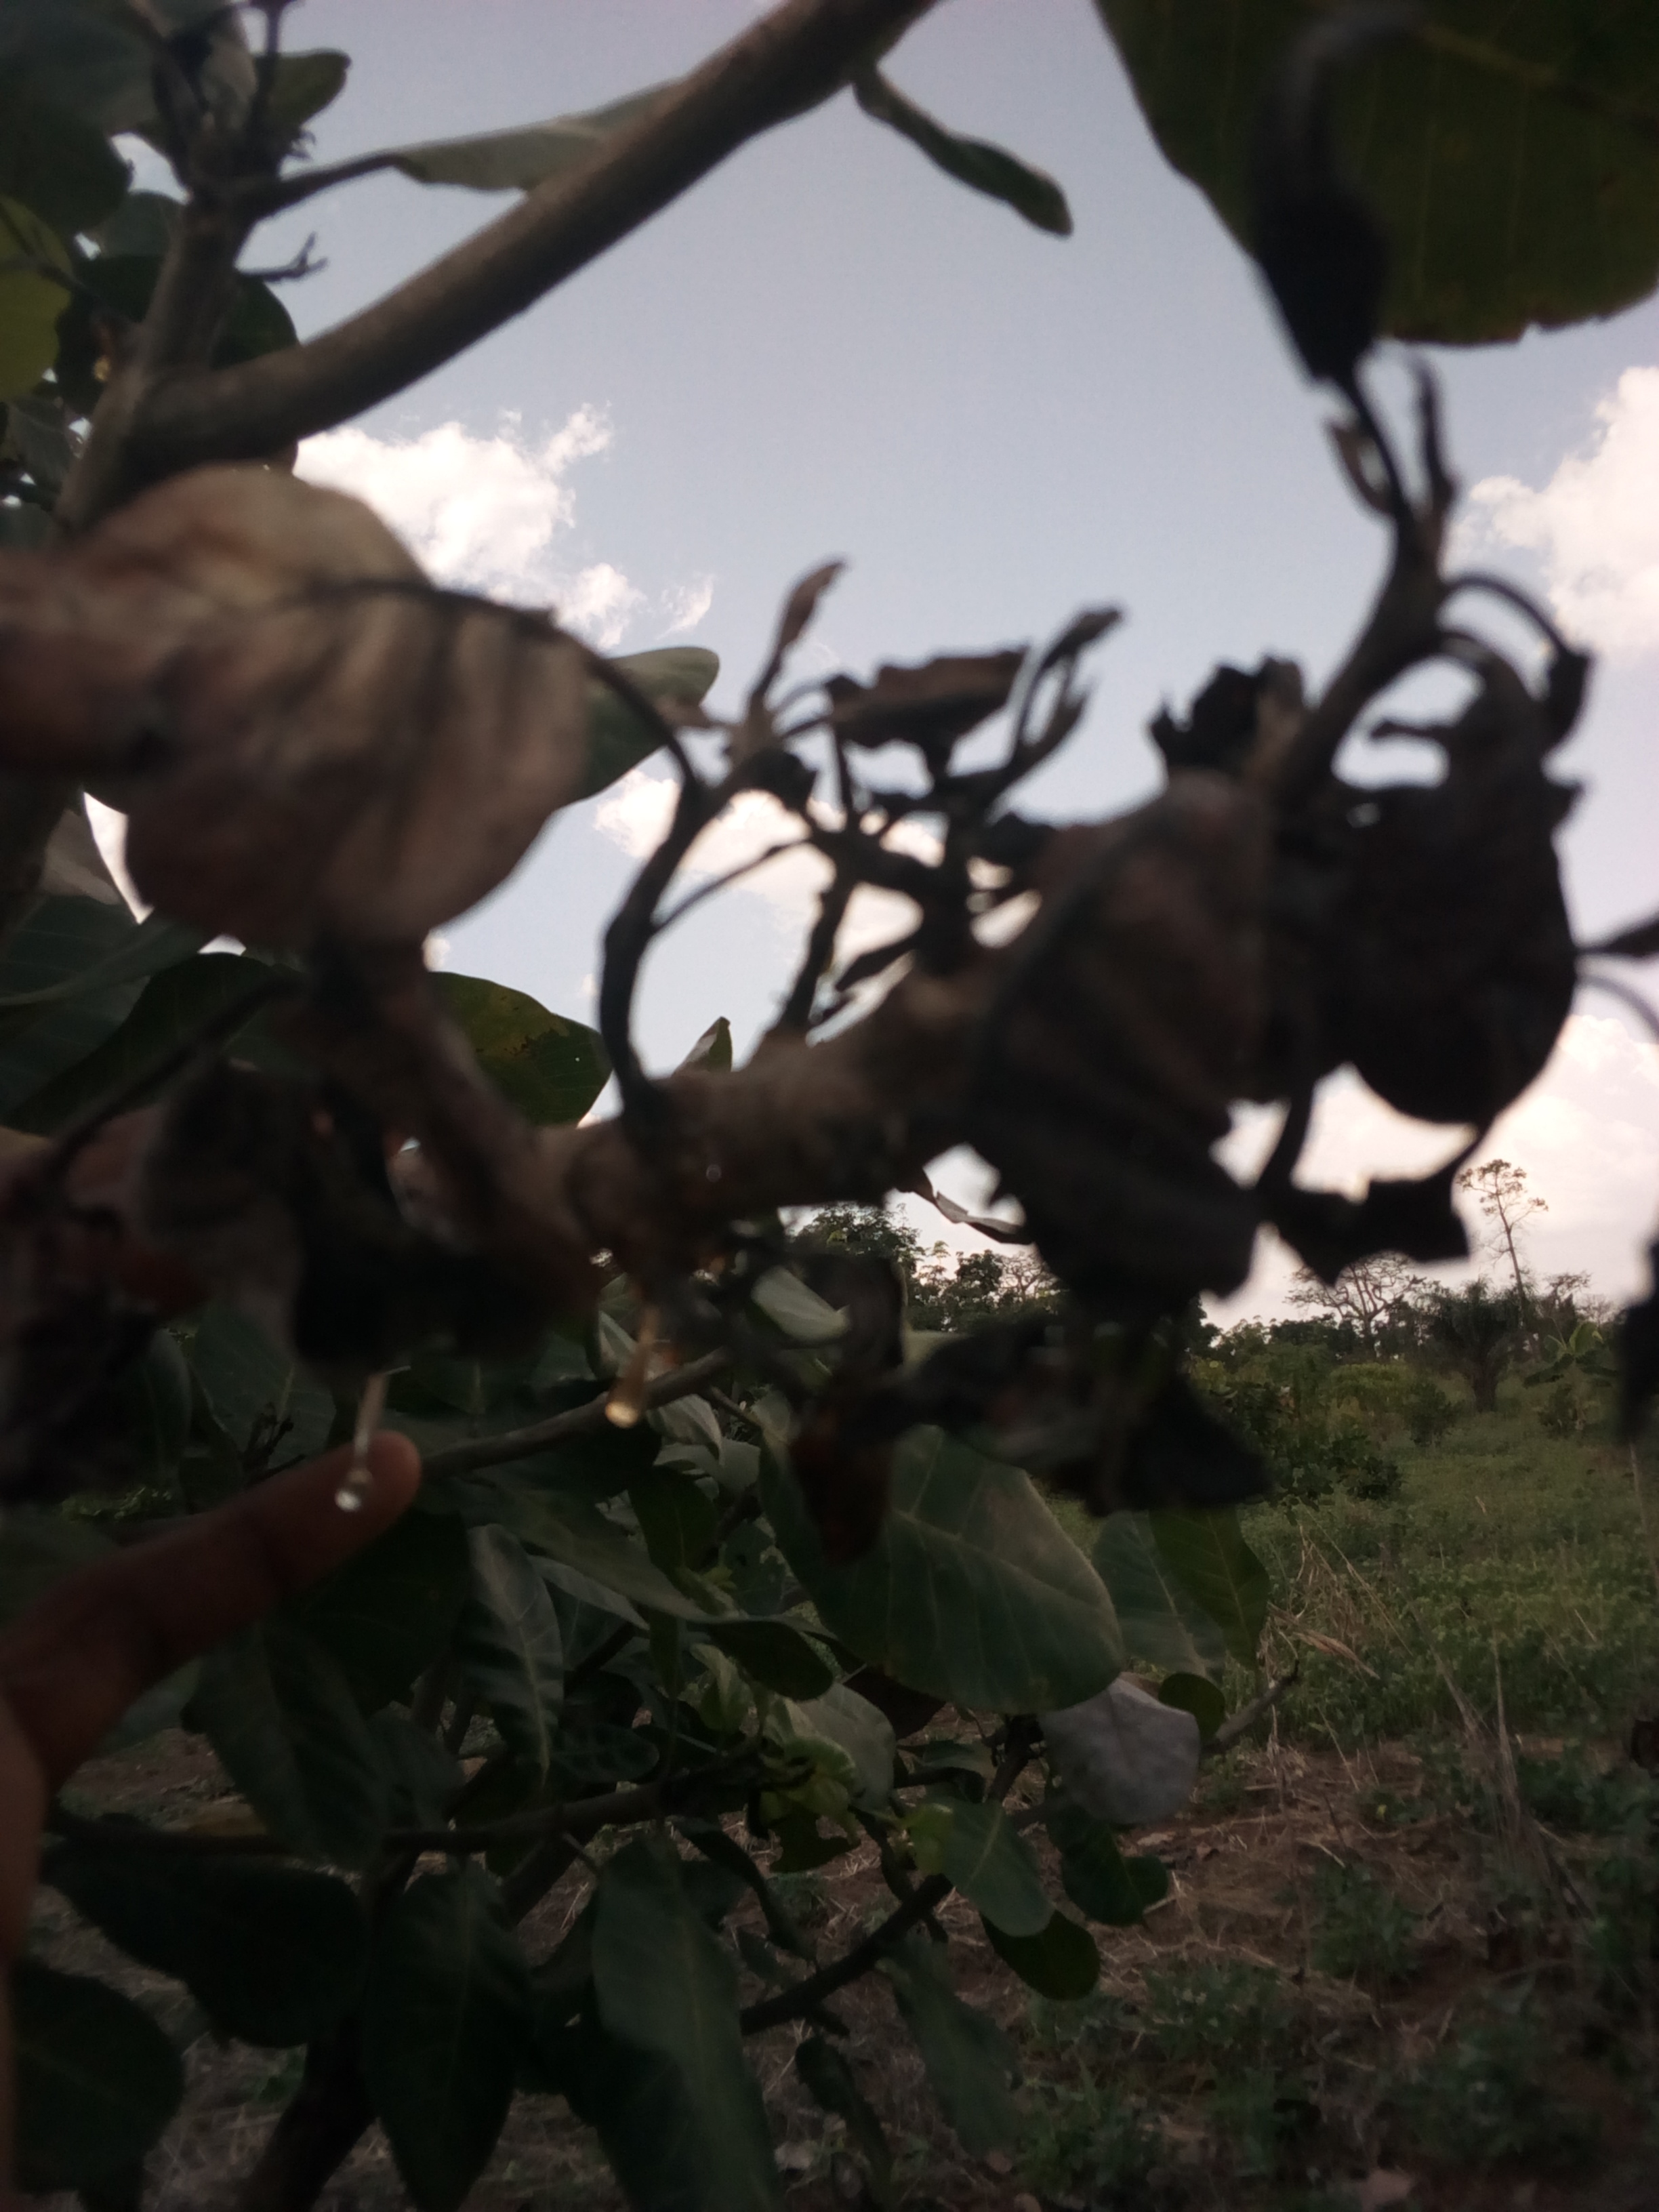Die-black: (23, 453, 671, 988), (969, 761, 1317, 1325)
